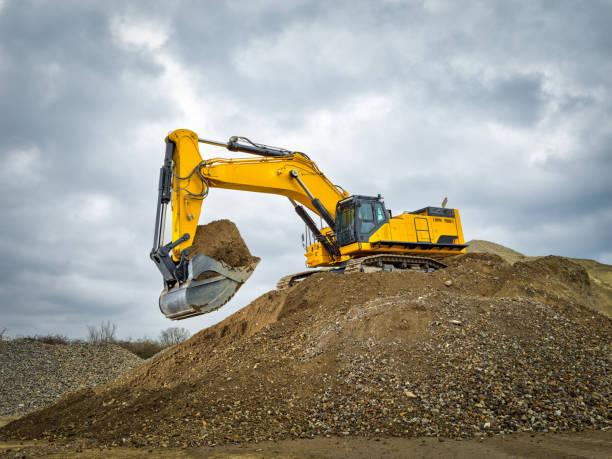excavator: (152, 128, 455, 284)
